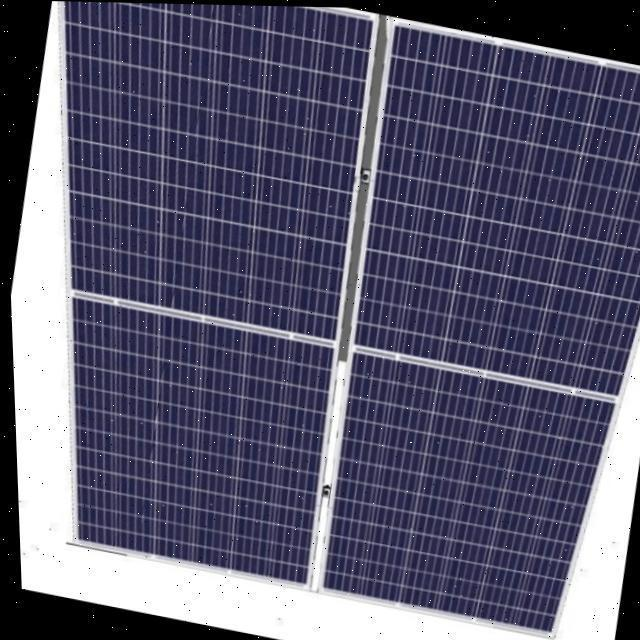Normal Solar Panel: (10, 1, 640, 640)
